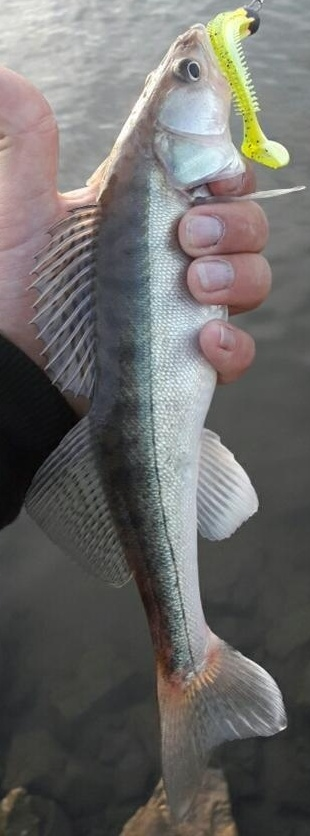Sander lucioperca: (20, 20, 290, 836)
